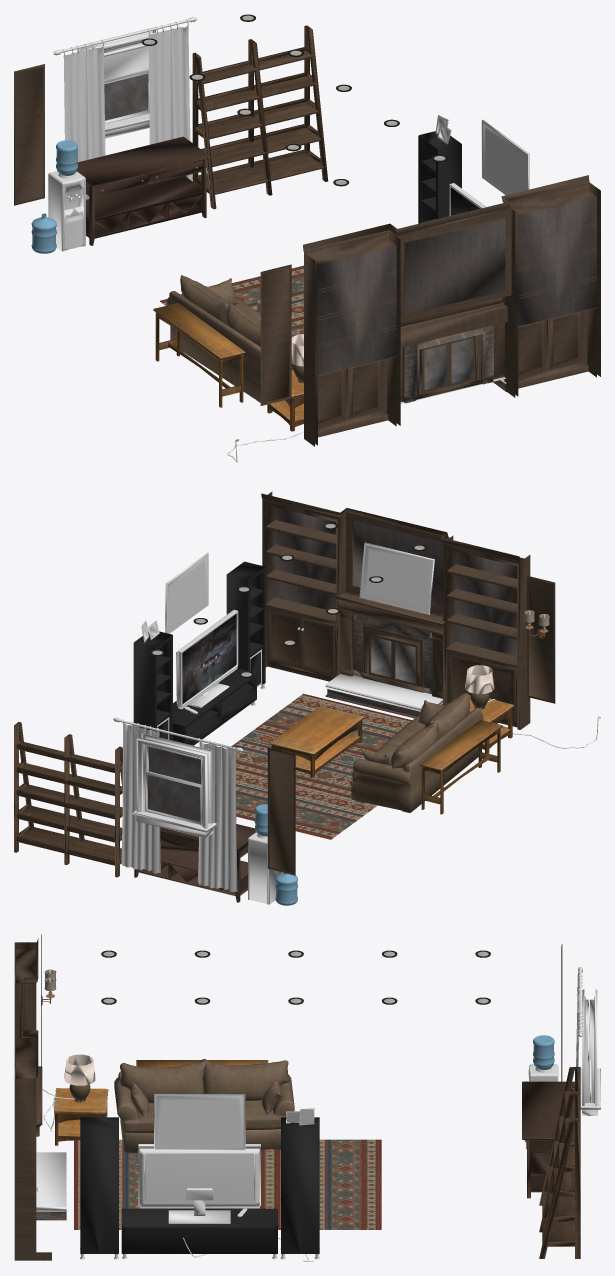
File: Living.fbx
The picture shows the model from 3 angles, top to bottom: view 1: azimuth 30°, elevation 25°; view 2: azimuth 150°, elevation 25°; view 3: azimuth 270°, elevation 25°; orthographic projection. The views are drawn at different scales.
Parts seen in each view (by area): view 1: Livingroom-Wood-Cupboard_0.1, 40_Hom-Kitchen-Cabinets-Wood-Dark_0.1_0_0.000, 40_Hom-Wine-Rack_0.1_0_0.000, 40_Hom-Curtain-Green-Geometric_0.1_0_1.001, Livingroom-Elena-Sofa.B_0.1, Livingroom-Tables-01_0.1, Livingroom-Wood-Trim.material01_0.1, 40_Hom-Wood-Trim.material01_0.1_0_0.003, 40_Hom-Water-Cooler_0.1_0_0.000, 40_Hom-Trim-Basic-Windows_0.1_0_0.001, Living-Trim-Basic-Black-Color_0.1, 40_Hom-Picture-Family-Photo_0.1_0_0.001 (+7 smaller); view 2: Livingroom-Wood-Cupboard_0.1, Living-Trim-Basic-Black-Color_0.1, Livingroom-Killim-Rugs-Style-02_0.1, 40_Hom-Kitchen-Cabinets-Wood-Dark_0.1_0_0.000, Livingroom-Elena-Sofa.B_0.1, 40_Hom-Curtain-Green-Geometric_0.1_0_1.001, Livingroom-Tables-01_0.1, 40_Hom-Trim-Basic-Windows_0.1_0_0.001, 40_Hom-Picture-Family-Photo_0.1_0_0.001, Living-Big-Screen-TV_0.1, 40_Hom-Wood-Trim.material01_0.1_0_0.003, Livingroom-Wood-Trim.material01_0.1 (+5 smaller); view 3: Living-Trim-Basic-Black-Color_0.1, Livingroom-Wood-Cupboard_0.1, Livingroom-Elena-Sofa.B_0.1, Livingroom-Killim-Rugs-Style-02_0.1, Living-Big-Screen-TV_0.1, 40_Hom-Picture-Family-Photo_0.1_0_0.001, 40_Hom-Kitchen-Cabinets-Wood-Dark_0.1_0_0.000, 40_Hom-Wine-Rack_0.1_0_0.000, Livingroom-Tables-01_0.1, 40_Hom-Trim-Basic-Windows_0.1_0_0.001, Livingroom-Lamp-B_0.1, 40_Hom-Water-Cooler_0.1_0_0.000 (+2 smaller).
Boxes of the visible parts, bbox=[...] form: Livingroom-Wood-Cupboard_0.1: bbox=[303, 175, 600, 446]; 40_Hom-Kitchen-Cabinets-Wood-Dark_0.1_0_0.000: bbox=[192, 25, 328, 209]; 40_Hom-Wine-Rack_0.1_0_0.000: bbox=[77, 136, 210, 245]; 40_Hom-Curtain-Green-Geometric_0.1_0_1.001: bbox=[63, 25, 192, 199]; Livingroom-Elena-Sofa.B_0.1: bbox=[166, 275, 303, 402]; Livingroom-Tables-01_0.1: bbox=[153, 303, 303, 431]; Livingroom-Wood-Trim.material01_0.1: bbox=[260, 264, 291, 405]; 40_Hom-Wood-Trim.material01_0.1_0_0.003: bbox=[14, 64, 44, 205]; 40_Hom-Water-Cooler_0.1_0_0.000: bbox=[48, 140, 85, 251]; 40_Hom-Trim-Basic-Windows_0.1_0_0.001: bbox=[77, 27, 160, 138]; Living-Trim-Basic-Black-Color_0.1: bbox=[418, 131, 461, 223]; 40_Hom-Picture-Family-Photo_0.1_0_0.001: bbox=[435, 115, 529, 195]; Livingroom-Wood-Cupboard_0.1: bbox=[261, 491, 530, 729]; Living-Trim-Basic-Black-Color_0.1: bbox=[133, 561, 265, 746]; Livingroom-Killim-Rugs-Style-02_0.1: bbox=[229, 693, 411, 839]; 40_Hom-Kitchen-Cabinets-Wood-Dark_0.1_0_0.000: bbox=[14, 722, 122, 877]; Livingroom-Elena-Sofa.B_0.1: bbox=[351, 693, 483, 812]; 40_Hom-Curtain-Green-Geometric_0.1_0_1.001: bbox=[121, 723, 237, 892]; Livingroom-Tables-01_0.1: bbox=[269, 695, 514, 814]; 40_Hom-Trim-Basic-Windows_0.1_0_0.001: bbox=[132, 733, 216, 838]; 40_Hom-Picture-Family-Photo_0.1_0_0.001: bbox=[141, 542, 434, 642]; Living-Big-Screen-TV_0.1: bbox=[176, 609, 238, 709]; 40_Hom-Wood-Trim.material01_0.1_0_0.003: bbox=[267, 748, 295, 875]; Livingroom-Wood-Trim.material01_0.1: bbox=[527, 575, 555, 703]; Living-Trim-Basic-Black-Color_0.1: bbox=[80, 1117, 319, 1261]; Livingroom-Wood-Cupboard_0.1: bbox=[14, 938, 66, 1260]; Livingroom-Elena-Sofa.B_0.1: bbox=[114, 1059, 294, 1153]; Livingroom-Killim-Rugs-Style-02_0.1: bbox=[74, 1139, 381, 1229]; Living-Big-Screen-TV_0.1: bbox=[138, 1144, 260, 1223]; 40_Hom-Picture-Family-Photo_0.1_0_0.001: bbox=[154, 1093, 314, 1150]; 40_Hom-Kitchen-Cabinets-Wood-Dark_0.1_0_0.000: bbox=[539, 1067, 580, 1258]; 40_Hom-Wine-Rack_0.1_0_0.000: bbox=[522, 1081, 574, 1198]; Livingroom-Tables-01_0.1: bbox=[54, 1060, 268, 1145]; 40_Hom-Trim-Basic-Windows_0.1_0_0.001: bbox=[580, 989, 600, 1115]; Livingroom-Lamp-B_0.1: bbox=[14, 1054, 95, 1131]; 40_Hom-Water-Cooler_0.1_0_0.000: bbox=[525, 1035, 558, 1081].
Size of the model in its own units: 5.88 by 8.31 by 3.23.
